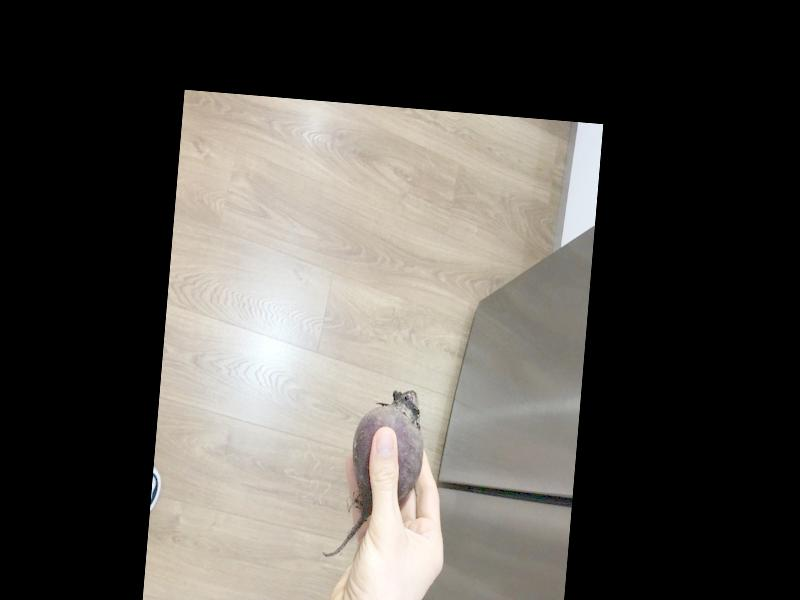Beet: (321, 382, 428, 562)
